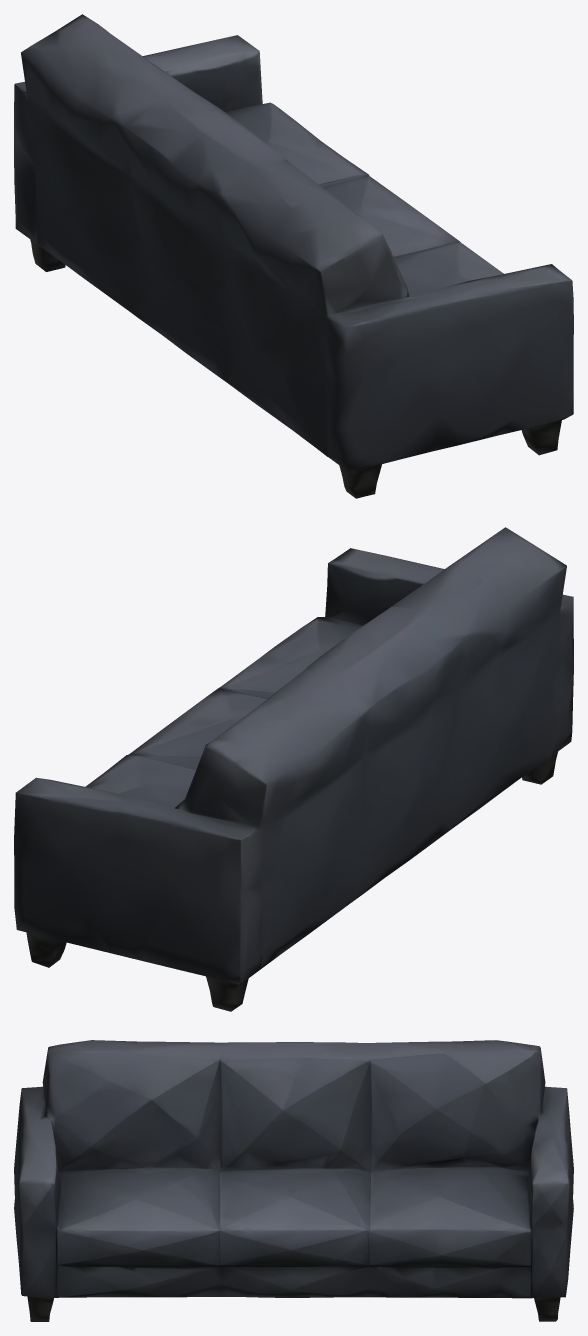
The model's file is low-poly+sofa+3d+model.glb.
3 views of the same model, one above another, from view 1: azimuth 30°, elevation 25°; view 2: azimuth 150°, elevation 25°; view 3: azimuth 270°, elevation 25° (orthographic). The views are drawn at different scales.
Visible parts, largest first — view 1: tripo_node_87c689b2-cfcd-4562-9a96-bea34f95e4d9; view 2: tripo_node_87c689b2-cfcd-4562-9a96-bea34f95e4d9; view 3: tripo_node_87c689b2-cfcd-4562-9a96-bea34f95e4d9.
Part boxes in pixels (bbox=[...]): tripo_node_87c689b2-cfcd-4562-9a96-bea34f95e4d9: bbox=[14, 14, 573, 498]; tripo_node_87c689b2-cfcd-4562-9a96-bea34f95e4d9: bbox=[14, 527, 573, 1011]; tripo_node_87c689b2-cfcd-4562-9a96-bea34f95e4d9: bbox=[14, 1040, 573, 1321].
Bounding box in the file's own units: 0.4305 × 0.4044 × 1.
1 material, 1 textured.
